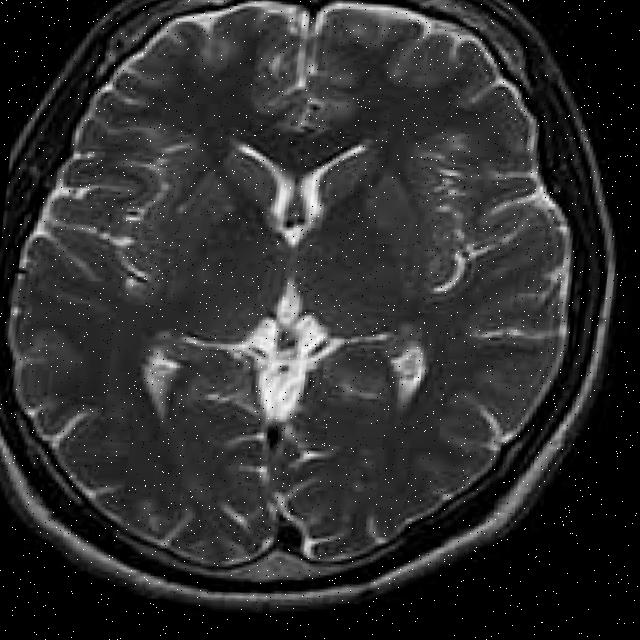NoTumor: (0, 0, 609, 626)
